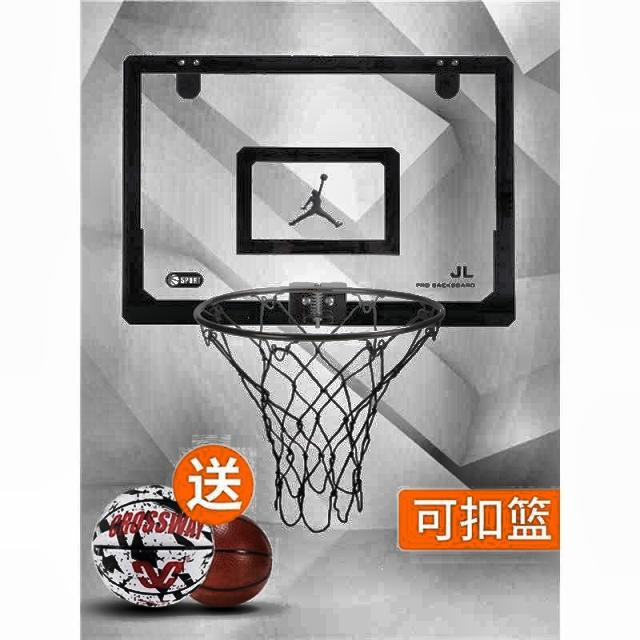rim: (195, 286, 447, 527), (94, 486, 216, 607)
